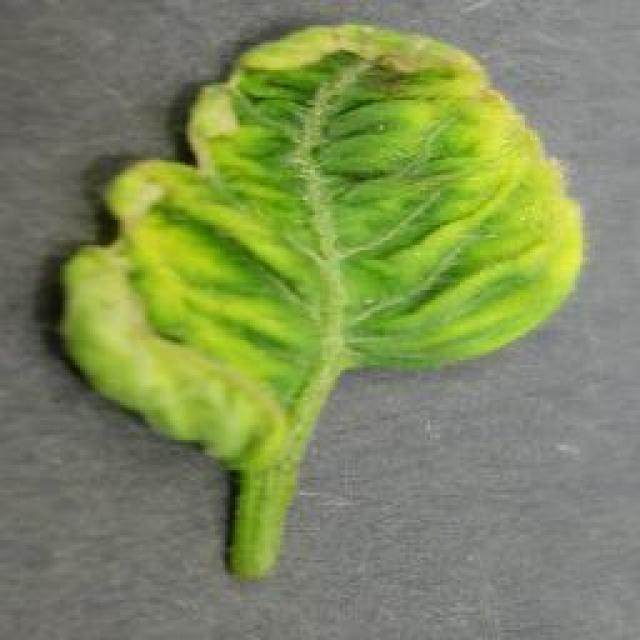Tomato yellow virus leaf: (54, 16, 588, 469)
